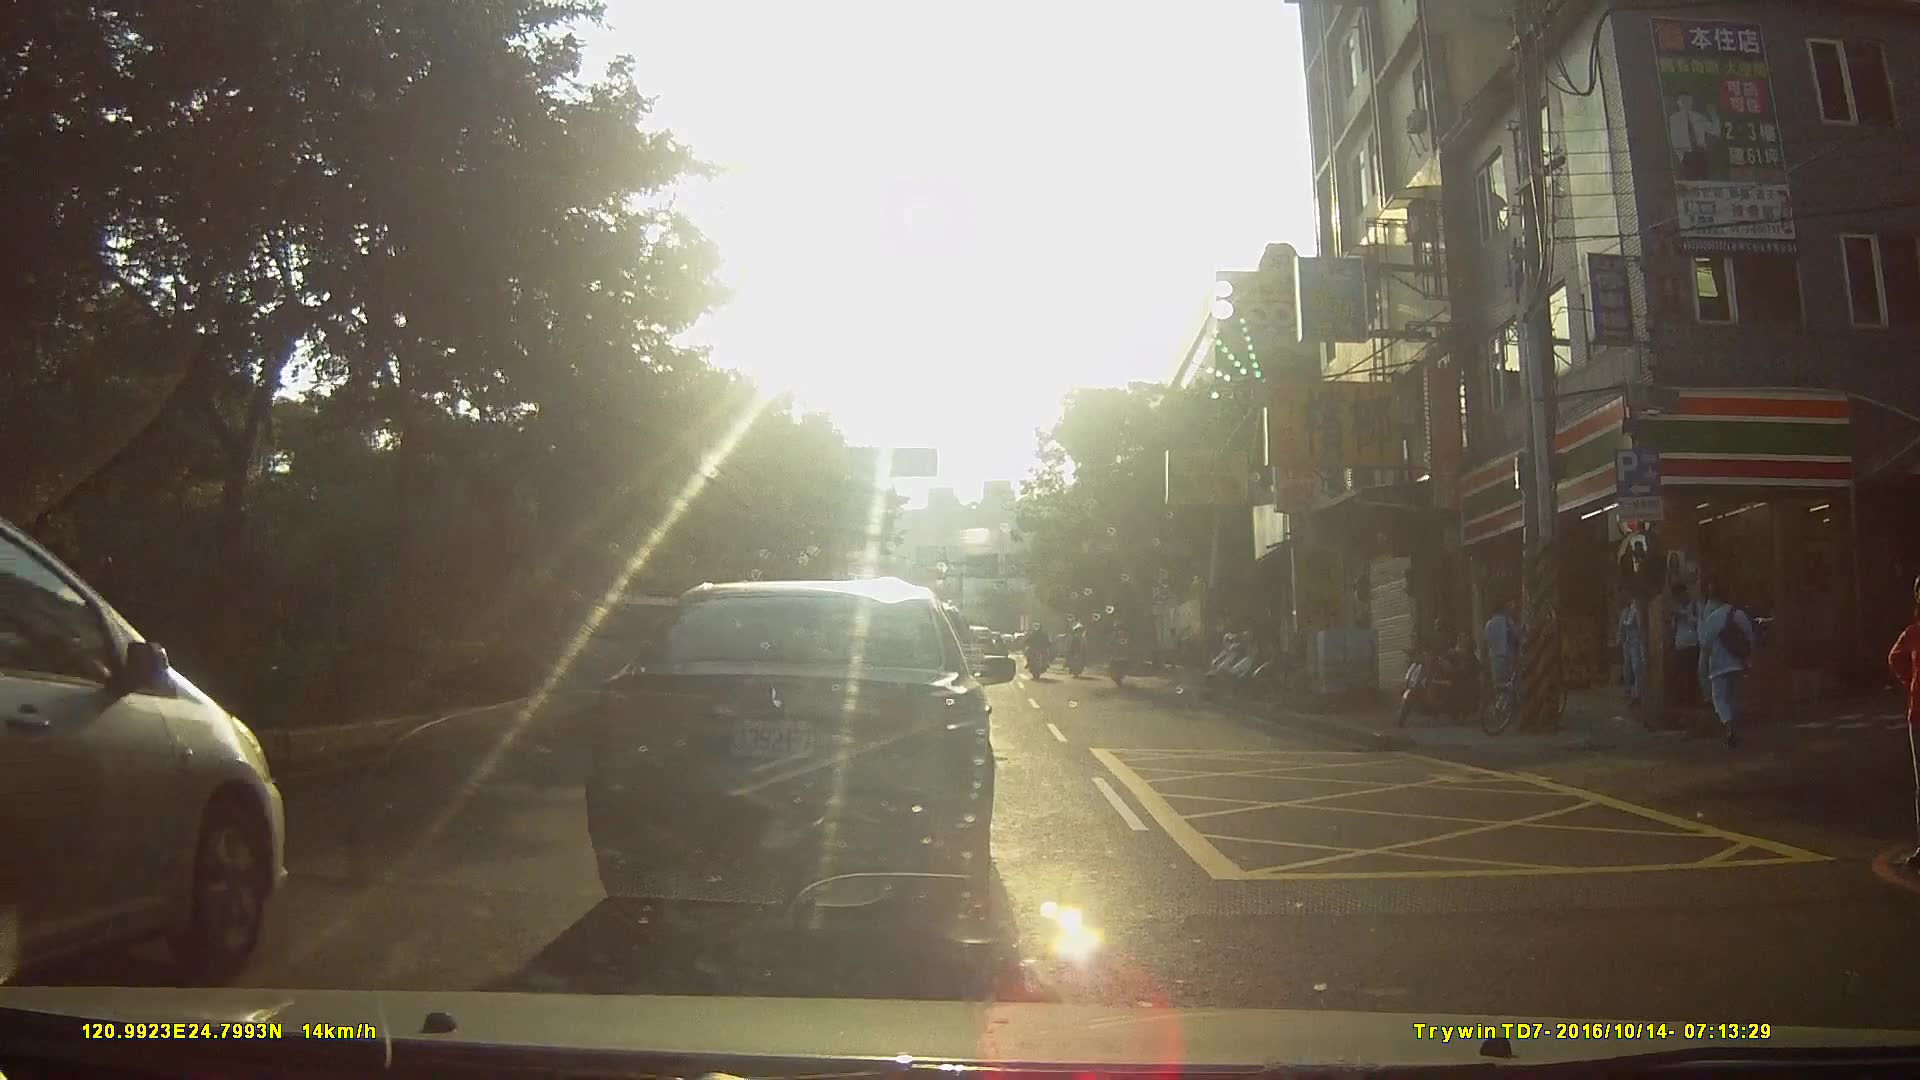pedestrian: (1691, 584, 1768, 753), (1894, 567, 1920, 854), (1477, 600, 1528, 714), (1671, 570, 1708, 710), (1618, 583, 1655, 708)
rider: (1022, 621, 1053, 681), (1064, 621, 1093, 682), (1109, 621, 1134, 688)
vehicle: (0, 489, 362, 1006), (562, 570, 1024, 938)
